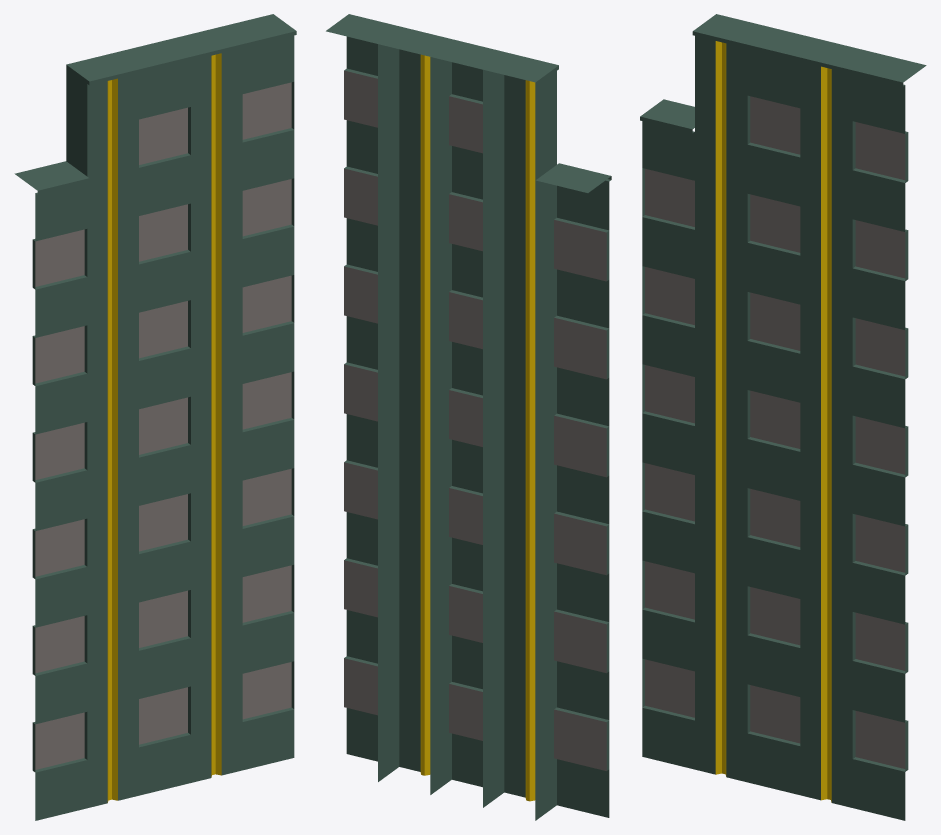
3 views of the same model, side by side, from view 1: azimuth 30°, elevation 25°; view 2: azimuth 150°, elevation 25°; view 3: azimuth 330°, elevation 25° (orthographic).
Visible parts, largest first — view 1: Pared.Win.x4.013; view 2: Pared.Win.x4.013; view 3: Pared.Win.x4.013.
Boxes of the visible parts, x1,y1,x2,y2 form: Pared.Win.x4.013: [14, 14, 296, 820]; Pared.Win.x4.013: [326, 14, 611, 820]; Pared.Win.x4.013: [640, 14, 926, 820].
Size of the model in its own units: 1392 by 3742 by 217.
